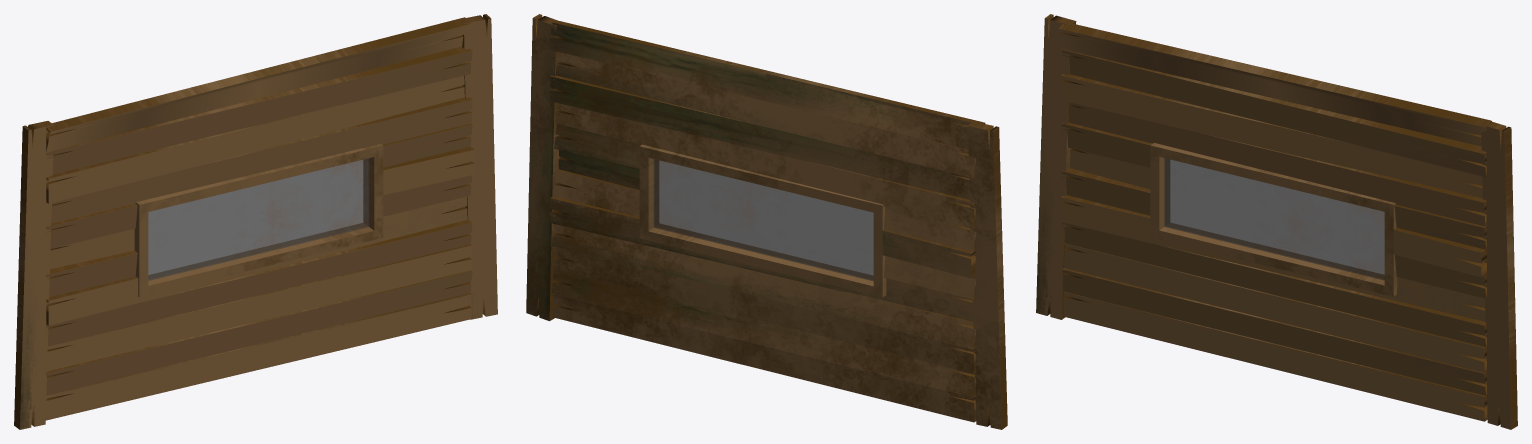
The model's file is window_cabin_asset.glb.
3 renders of one model, left to right at view 1: azimuth 30°, elevation 25°; view 2: azimuth 150°, elevation 25°; view 3: azimuth 330°, elevation 25°, orthographic.
Parts seen in each view (by area): view 1: pCube31, pCube33, pCube32; view 2: pCube31, pCube33, pCube32; view 3: pCube31, pCube33, pCube32.
Boxes of the visible parts, x1,y1,x2,y2 form: pCube31: (14,14,497,429); pCube33: (148,158,369,280); pCube32: (134,144,383,297); pCube31: (526,14,1007,429); pCube33: (653,159,873,280); pCube32: (639,144,886,297); pCube31: (1036,14,1517,429); pCube33: (1164,158,1384,280); pCube32: (1150,143,1397,296).
Bounding box in the file's own units: 1.18 × 0.7039 × 0.0607.
Materials: 1 (1 with a texture image).
